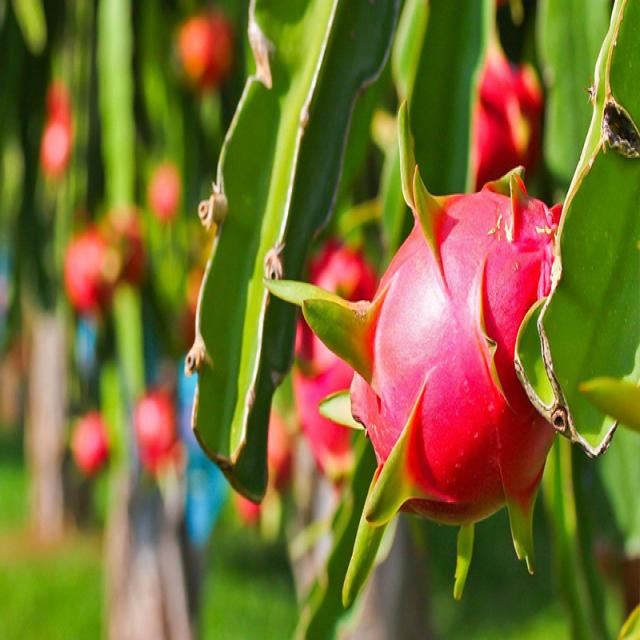Thanh Long: (350, 186, 576, 564), (289, 245, 383, 478), (471, 43, 546, 195)
